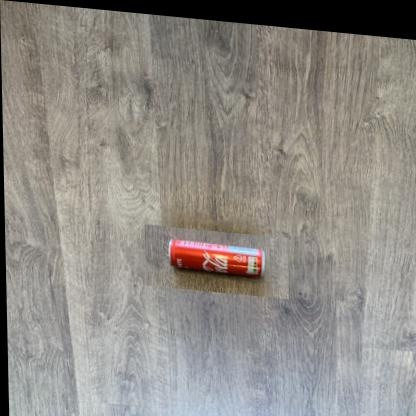trash: (169, 240, 264, 277)
